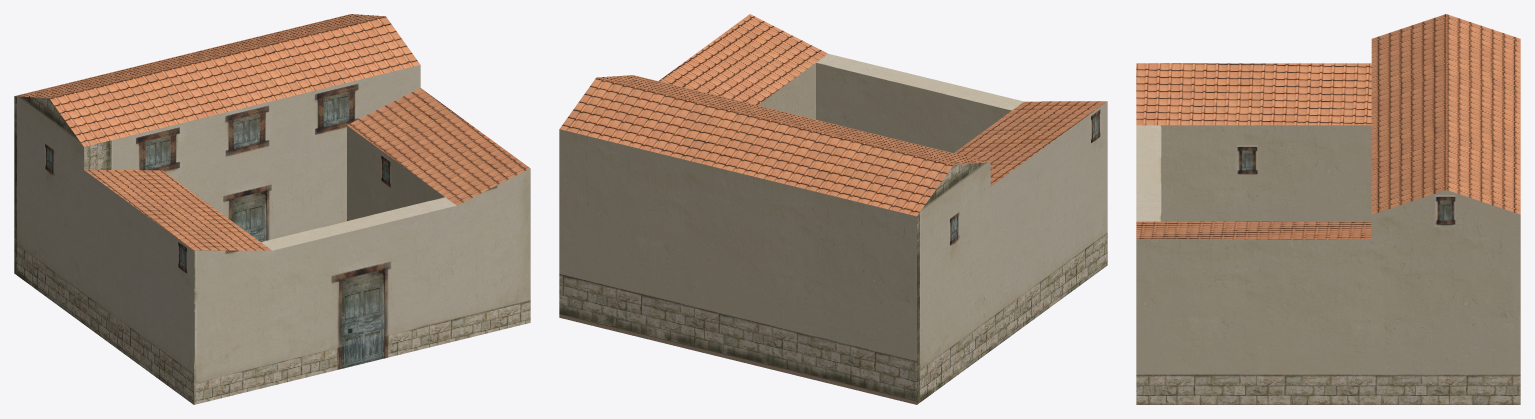
File: romhouse1.fbx
The picture shows the model from 3 angles, left to right: view 1: azimuth 30°, elevation 25°; view 2: azimuth 150°, elevation 25°; view 3: azimuth 270°, elevation 25°; orthographic projection. The views are drawn at different scales.
Visible parts, largest first — view 1: Model; view 2: Model; view 3: Model.
Boxes of the visible parts, box(x1,y1,x2,y2) form: Model: box(14, 14, 530, 404); Model: box(559, 14, 1107, 404); Model: box(1136, 14, 1520, 404).
Bounding box in the file's own units: 7465 × 4253 × 6894.
